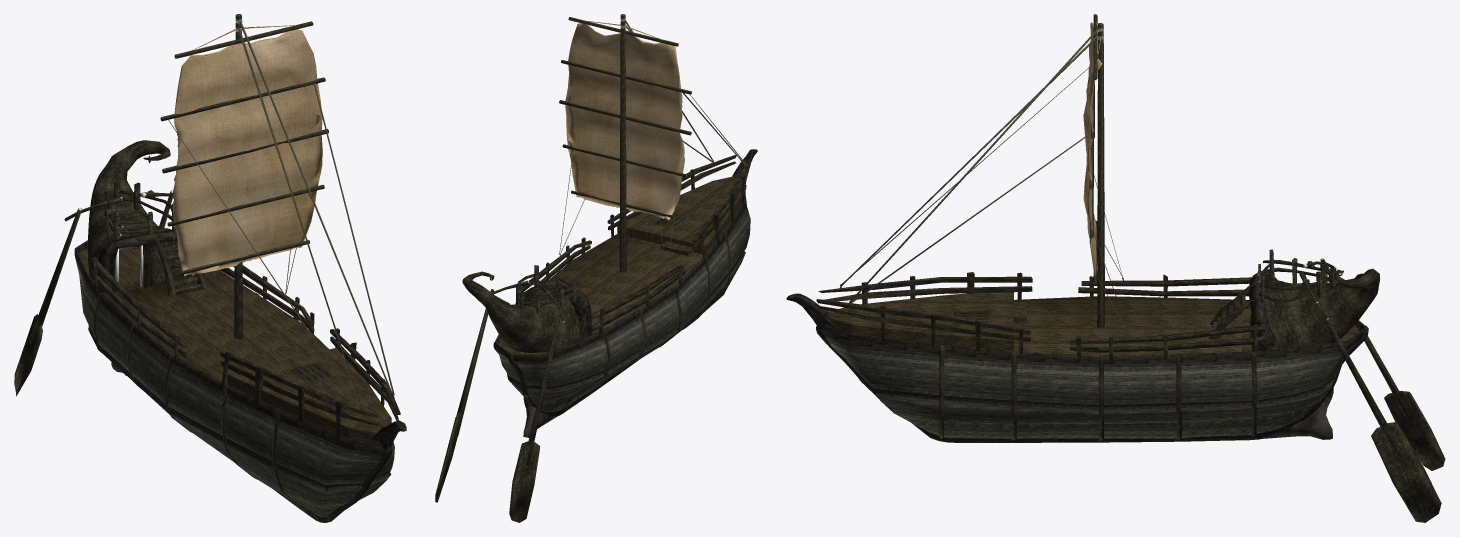
Rendered from ex_de_ship.dae.
3 views of the same model, side by side, from view 1: azimuth 30°, elevation 25°; view 2: azimuth 150°, elevation 25°; view 3: azimuth 270°, elevation 25° (orthographic). The views are drawn at different scales.
Parts seen in each view (by area): view 1: nifid_319-matrix, nifid_329-matrix, nifid_337-matrix, nifid_214-matrix, nifid_334-matrix, nifid_232-matrix, nifid_240-matrix, nifid_326-matrix, nifid_222-matrix, nifid_166-matrix, nifid_162-matrix, nifid_305-matrix (+13 smaller); view 2: nifid_319-matrix, nifid_329-matrix, nifid_337-matrix, nifid_232-matrix, nifid_214-matrix, nifid_334-matrix, nifid_277-matrix, nifid_305-matrix, nifid_273-matrix, nifid_240-matrix, nifid_266-matrix, nifid_2-matrix (+6 smaller); view 3: nifid_337-matrix, nifid_329-matrix, nifid_214-matrix, nifid_334-matrix, nifid_232-matrix, nifid_291-matrix, nifid_2-matrix, nifid_277-matrix, nifid_305-matrix, nifid_319-matrix, nifid_240-matrix, nifid_126-matrix (+9 smaller).
Part boxes in pixels (x1,y1,x2,y2): nifid_319-matrix: [172, 29, 322, 276]; nifid_329-matrix: [79, 246, 391, 444]; nifid_337-matrix: [75, 258, 394, 505]; nifid_214-matrix: [89, 257, 400, 438]; nifid_334-matrix: [74, 248, 391, 490]; nifid_232-matrix: [87, 140, 171, 281]; nifid_240-matrix: [93, 230, 177, 293]; nifid_326-matrix: [150, 229, 207, 296]; nifid_222-matrix: [143, 241, 192, 287]; nifid_166-matrix: [239, 21, 392, 393]; nifid_162-matrix: [238, 28, 361, 406]; nifid_305-matrix: [14, 314, 42, 396]; nifid_319-matrix: [565, 23, 684, 220]; nifid_329-matrix: [498, 176, 745, 354]; nifid_337-matrix: [495, 206, 750, 402]; nifid_232-matrix: [462, 271, 581, 352]; nifid_214-matrix: [521, 155, 750, 336]; nifid_334-matrix: [493, 198, 746, 391]; nifid_277-matrix: [619, 15, 626, 272]; nifid_305-matrix: [509, 441, 539, 522]; nifid_273-matrix: [526, 306, 562, 466]; nifid_240-matrix: [525, 285, 591, 339]; nifid_266-matrix: [455, 289, 493, 436]; nifid_2-matrix: [508, 185, 746, 416]; nifid_337-matrix: [825, 336, 1361, 423]; nifid_329-matrix: [824, 292, 1359, 355]; nifid_214-matrix: [816, 272, 1265, 360]; nifid_334-matrix: [821, 326, 1365, 409]; nifid_232-matrix: [1265, 268, 1379, 349]; nifid_291-matrix: [1371, 422, 1441, 522]; nifid_2-matrix: [816, 325, 1368, 442]; nifid_277-matrix: [1097, 24, 1104, 328]; nifid_305-matrix: [1384, 391, 1445, 470]; nifid_319-matrix: [1083, 22, 1102, 276]; nifid_240-matrix: [1248, 271, 1277, 351]; nifid_126-matrix: [1262, 388, 1333, 439].
Bounding box in the file's own units: 666 × 2443 × 1927.
Materials: 24 (19 with a texture image).
